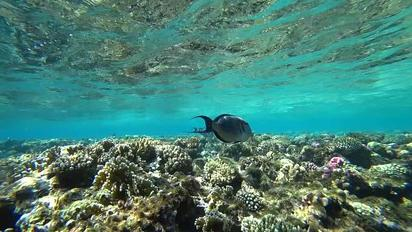Acanthuridae -Surgeonfishes-: (192, 110, 258, 146)
